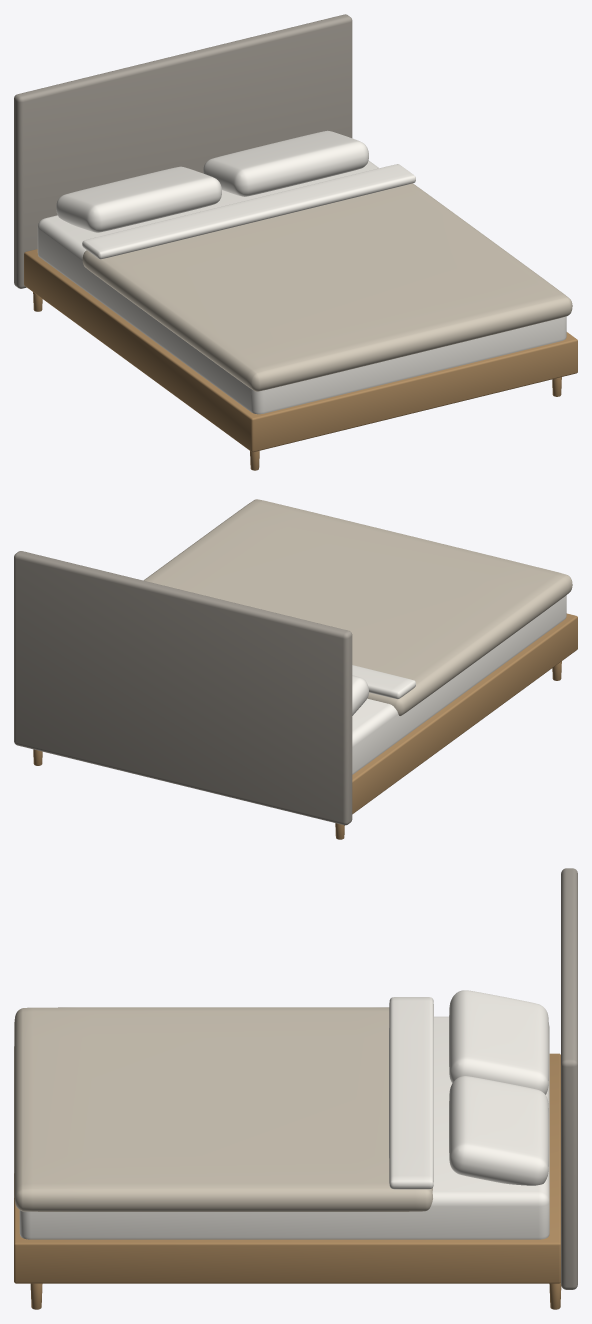
The model's file is cama-doble.glb.
The picture shows the model from 3 angles, top to bottom: view 1: azimuth 30°, elevation 25°; view 2: azimuth 150°, elevation 25°; view 3: azimuth 270°, elevation 25°; orthographic projection. The views are drawn at different scales.
Visible parts, largest first — view 1: Edredón.001, Cabecero.001, Bastidor.003, Colchón.001, Embozo.001, Almohada.001, Almohada.002; view 2: Cabecero.001, Edredón.001, Bastidor.003, Colchón.001, Embozo.001, Almohada.001; view 3: Edredón.001, Bastidor.003, Colchón.001, Almohada.002, Embozo.001, Almohada.001, Cabecero.001.
Boxes of the visible parts, left/top/right/bottom form: Edredón.001: left=82, top=183, right=572, bottom=391; Cabecero.001: left=14, top=14, right=352, bottom=288; Bastidor.003: left=24, top=249, right=577, bottom=452; Colchón.001: left=37, top=160, right=566, bottom=414; Embozo.001: left=82, top=164, right=415, bottom=259; Almohada.001: left=56, top=166, right=221, bottom=232; Almohada.002: left=203, top=130, right=368, bottom=196; Cabecero.001: left=14, top=551, right=352, bottom=825; Edredón.001: left=143, top=499, right=572, bottom=715; Bastidor.003: left=352, top=613, right=577, bottom=814; Colchón.001: left=352, top=595, right=566, bottom=774; Embozo.001: left=352, top=665, right=415, bottom=699; Almohada.001: left=352, top=675, right=368, bottom=715; Edredón.001: left=14, top=1007, right=432, bottom=1211; Bastidor.003: left=14, top=1053, right=560, bottom=1283; Colchón.001: left=19, top=1016, right=549, bottom=1239; Almohada.002: left=449, top=1076, right=548, bottom=1185; Embozo.001: left=389, top=997, right=433, bottom=1189; Almohada.001: left=449, top=990, right=548, bottom=1094; Cabecero.001: left=561, top=868, right=577, bottom=1289.
Size of the model in its own units: 1.64 by 1 by 2.
